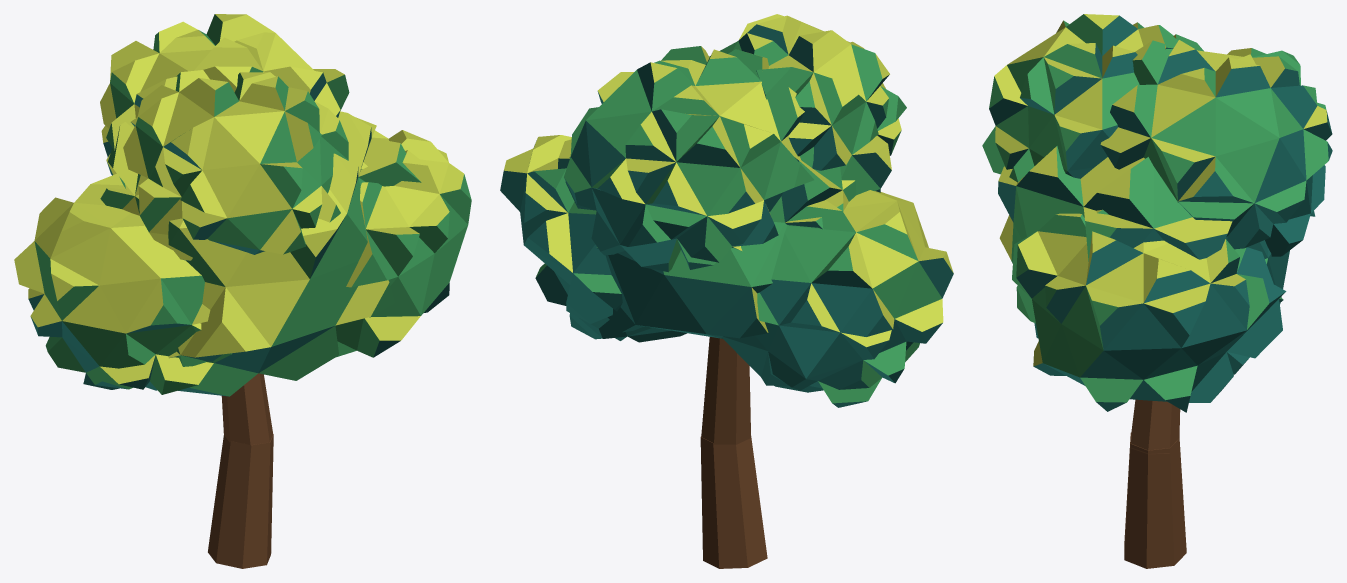
The model's file is Agac_Yuvarlak_v2.fbx.
The picture shows the model from 3 angles, left to right: view 1: azimuth 30°, elevation 25°; view 2: azimuth 150°, elevation 25°; view 3: azimuth 270°, elevation 25°; orthographic projection.
Parts seen in each view (by area): view 1: Agac_Yuvarlak; view 2: Agac_Yuvarlak; view 3: Agac_Yuvarlak.
Part boxes in pixels (x1,y1,x2,y2): Agac_Yuvarlak: [14, 14, 471, 568]; Agac_Yuvarlak: [500, 14, 953, 568]; Agac_Yuvarlak: [982, 14, 1332, 568].
Size of the model in its own units: 237 by 275 by 170.
